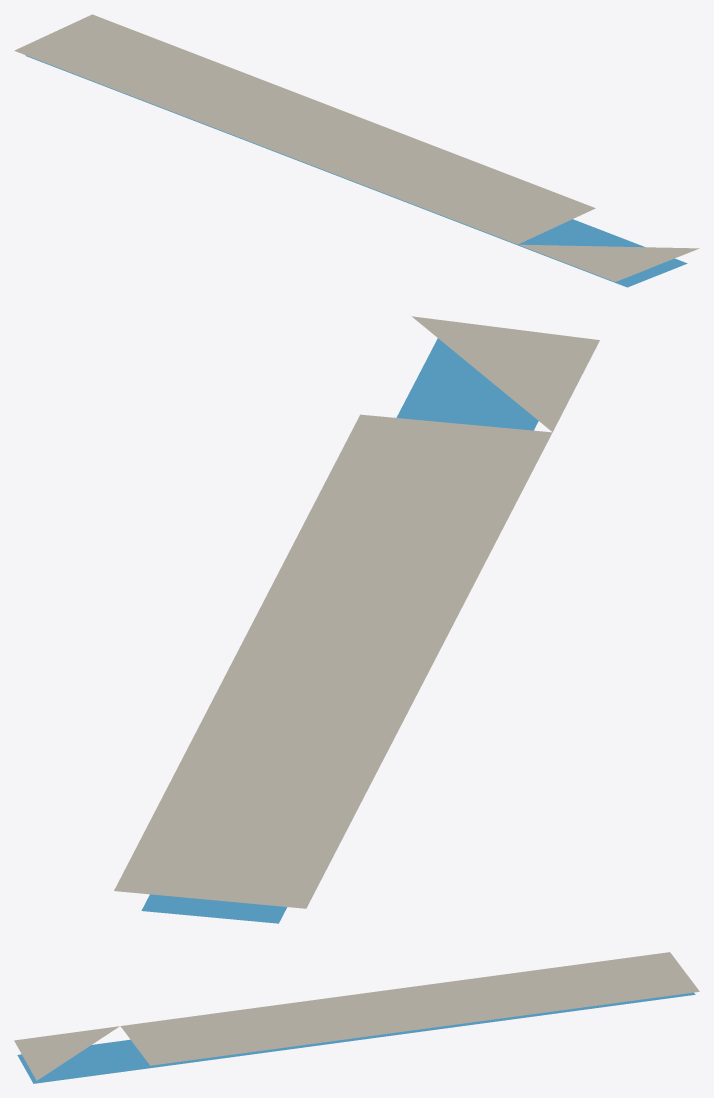
3 views of the same model, one above another, from view 1: azimuth 30°, elevation 25°; view 2: azimuth 150°, elevation 25°; view 3: azimuth 270°, elevation 25° (orthographic). The views are drawn at different scales.
Visible parts, largest first — view 1: estructura_terreno, estructura_agua; view 2: estructura_terreno, estructura_agua; view 3: estructura_terreno, estructura_agua.
Boxes of the visible parts, bbox=[...] form: estructura_terreno: bbox=[14, 14, 699, 281]; estructura_agua: bbox=[25, 55, 687, 287]; estructura_terreno: bbox=[114, 316, 599, 908]; estructura_agua: bbox=[141, 338, 538, 923]; estructura_terreno: bbox=[14, 952, 699, 1080]; estructura_agua: bbox=[17, 992, 695, 1083].
Size of the model in its own units: 13 by 0.41 by 29.25.
